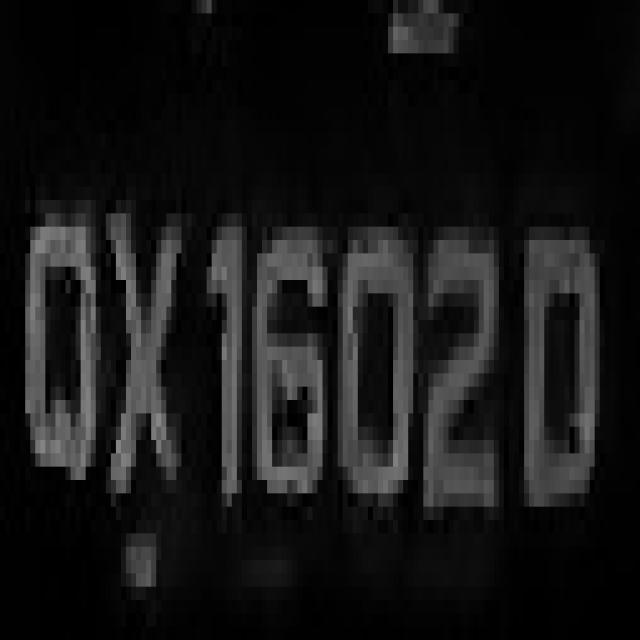0: (307, 200, 418, 587)
1: (202, 186, 252, 546)
2: (418, 200, 509, 560)
6: (242, 160, 322, 533)
D: (514, 187, 600, 533)
Q: (15, 160, 121, 573)
X: (96, 160, 186, 573)
